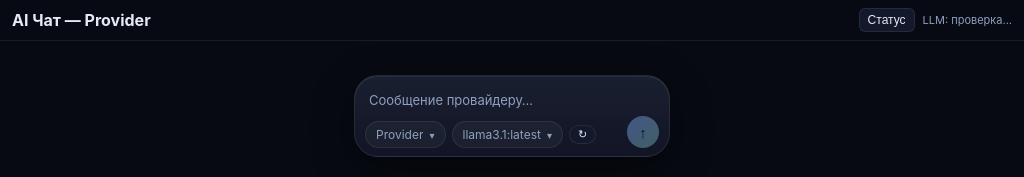
Scenario: ollama chat discovery › does not use GGUF registry records for Ollama
Click the dropdown named "Модель".
click(507, 134)  # box [452,121,563,148]
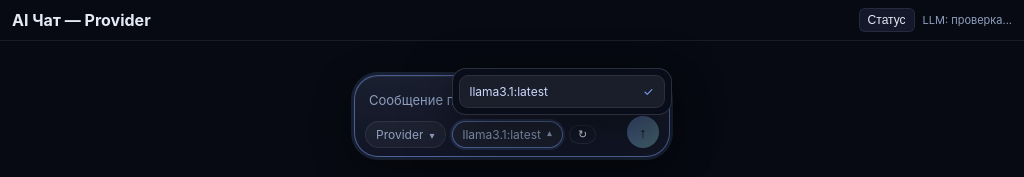
Expected: the option "llama3.1:latest ✓" is shown, [458,75,664,108]
